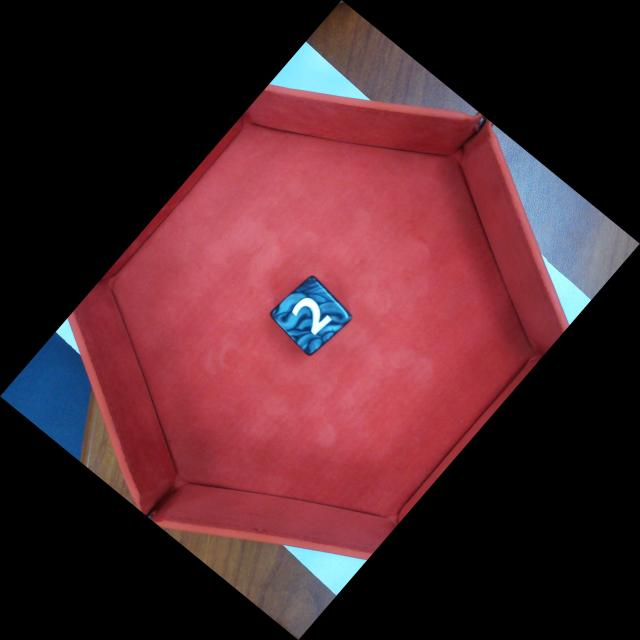dice: (267, 275, 353, 357)
